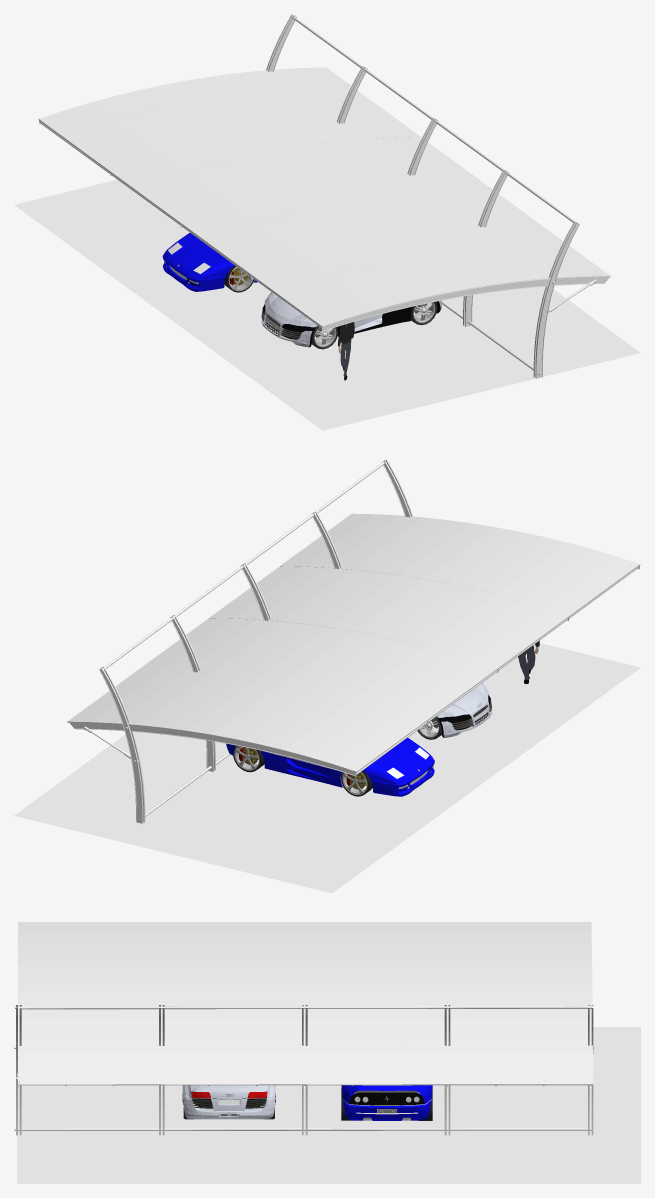
The picture shows the model from 3 angles, top to bottom: view 1: azimuth 30°, elevation 25°; view 2: azimuth 150°, elevation 25°; view 3: azimuth 270°, elevation 25°; orthographic projection.
Parts seen in each view (by area): view 1: skpBAF8_001, Component9_001, Component24_001, Component20_001, Component19_001, Component11_001; view 2: skpBAF8_001, Component9_001, Component_001, Component20_001, Component19_001; view 3: skpBAF8_001, Component9_001, Component17_001, Component23_001, Component8_001.
Boxes of the visible parts, <box> form: skpBAF8_001: <box>14,14,640,430</box>; Component9_001: <box>162,233,257,291</box>; Component24_001: <box>262,301,440,347</box>; Component20_001: <box>264,292,317,327</box>; Component19_001: <box>261,310,312,347</box>; Component11_001: <box>338,322,354,380</box>; skpBAF8_001: <box>14,459,640,893</box>; Component9_001: <box>226,737,434,796</box>; Component_001: <box>233,745,372,796</box>; Component20_001: <box>436,683,489,717</box>; Component19_001: <box>441,701,492,737</box>; skpBAF8_001: <box>14,922,640,1183</box>; Component9_001: <box>341,1085,432,1120</box>; Component17_001: <box>183,1096,275,1119</box>; Component23_001: <box>182,1085,275,1098</box>; Component8_001: <box>342,1085,431,1120</box>.
Size of the model in its own units: 8190 by 3588 by 13817.
